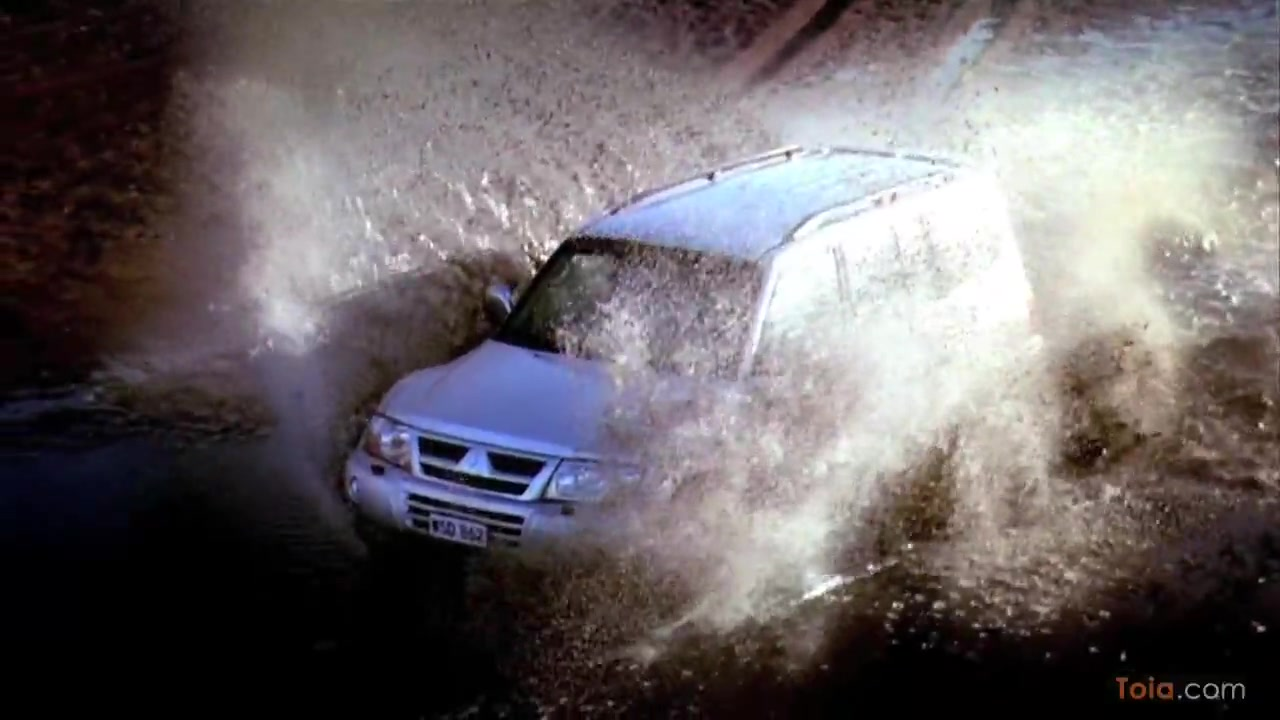car: (337, 133, 1047, 590)
